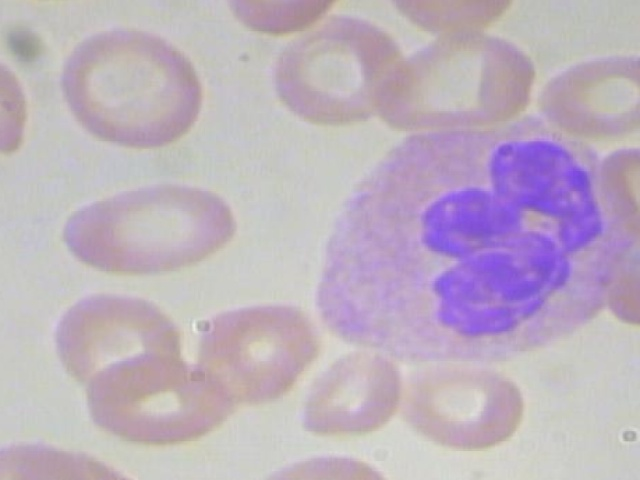RBC: (46, 20, 217, 149), (57, 179, 242, 276), (15, 290, 192, 391), (67, 343, 243, 444), (261, 9, 408, 126), (181, 301, 324, 415), (388, 355, 535, 459), (530, 40, 640, 137), (293, 347, 401, 445), (368, 0, 539, 41), (0, 30, 40, 159)
WBC: (289, 110, 636, 373)
